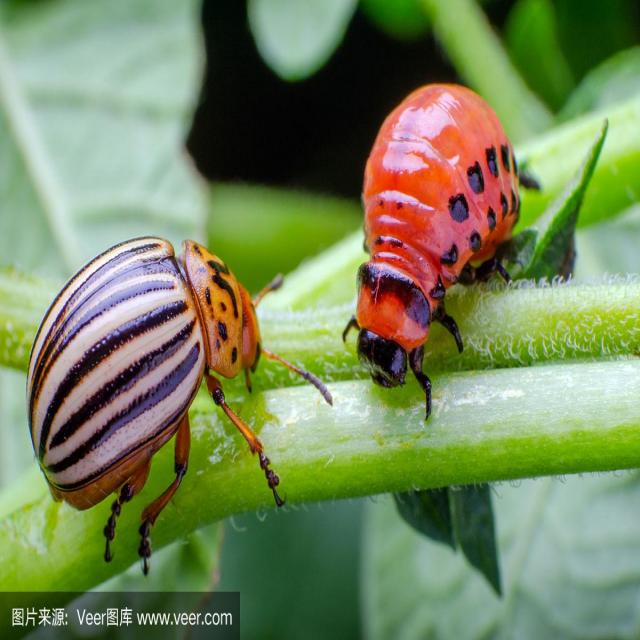ShuCaiHuaBanChong-Grown-: (22, 228, 266, 507)
ShuCaiHuaBanChong-Larva-: (336, 70, 544, 437)
